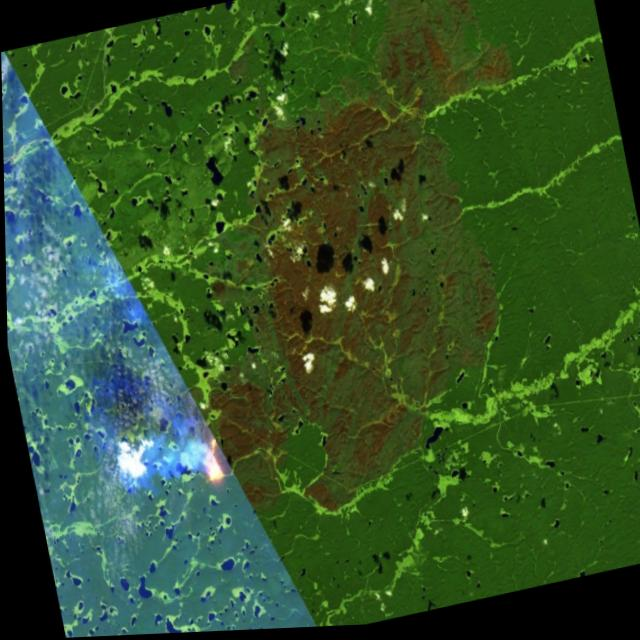fire: (187, 428, 239, 496)
